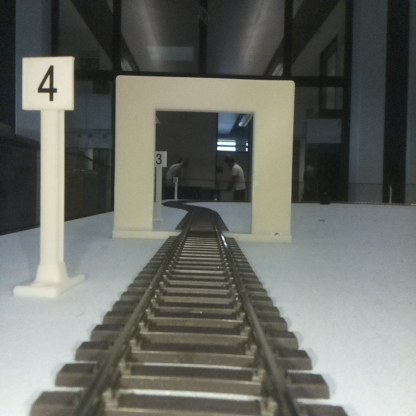white-info-3: (153, 150, 166, 220)
white-info-4: (22, 56, 73, 296)
